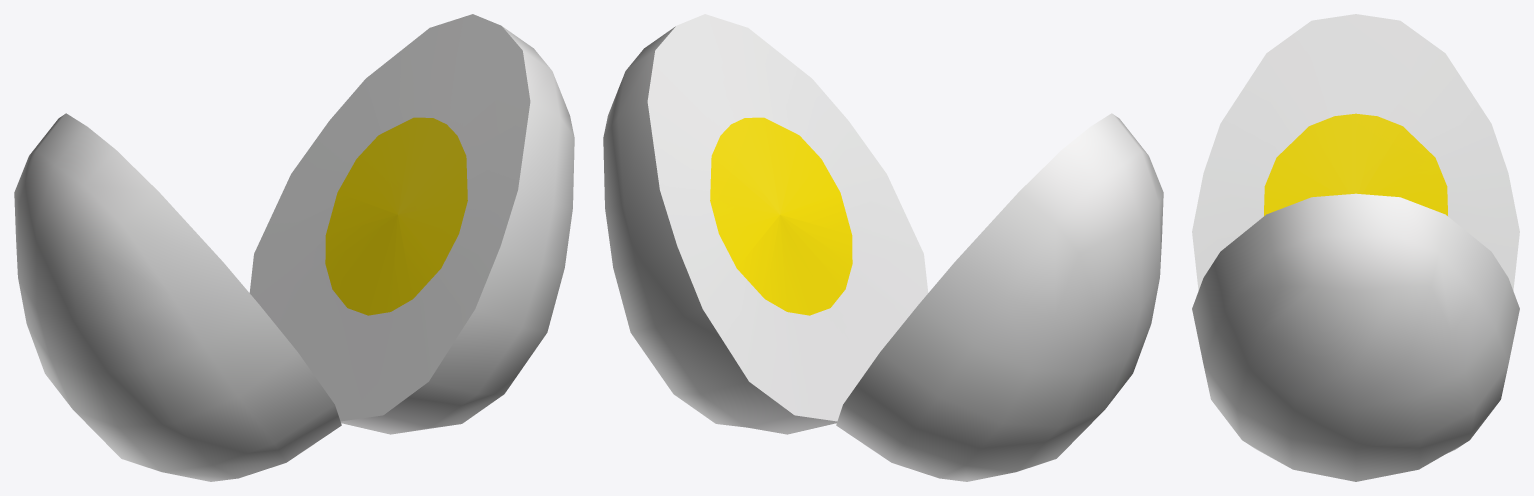
Rendered from Egg_01_Boiled_02.fbx.
3 renders of one model, left to right at view 1: azimuth 30°, elevation 25°; view 2: azimuth 150°, elevation 25°; view 3: azimuth 270°, elevation 25°, orthographic. The views are drawn at different scales.
Visible parts, largest first — view 1: Egg_01_Boiled_02; view 2: Egg_01_Boiled_02; view 3: Egg_01_Boiled_02.
Part boxes in pixels (x1=…): Egg_01_Boiled_02: x1=14, y1=14, x2=574, y2=481; Egg_01_Boiled_02: x1=603, y1=14, x2=1163, y2=481; Egg_01_Boiled_02: x1=1192, y1=14, x2=1519, y2=481.
Size of the model in its own units: 52.24 by 35.03 by 32.27.
